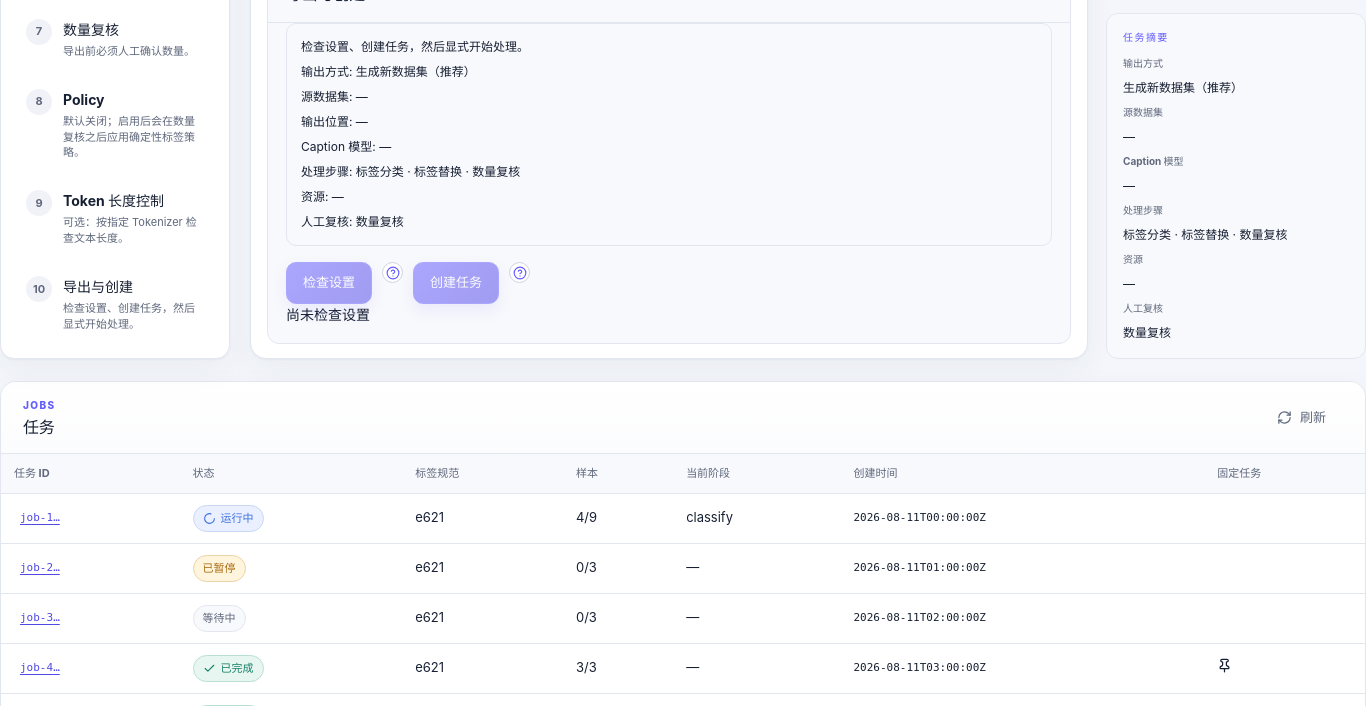
Scenario: DatasetWorkflow count review and job controls › blocks confirmation while any count is still pending
(page scrolled)
Click the button "job-1…": (40,518) [14, 506, 66, 530]
(page scrolled)
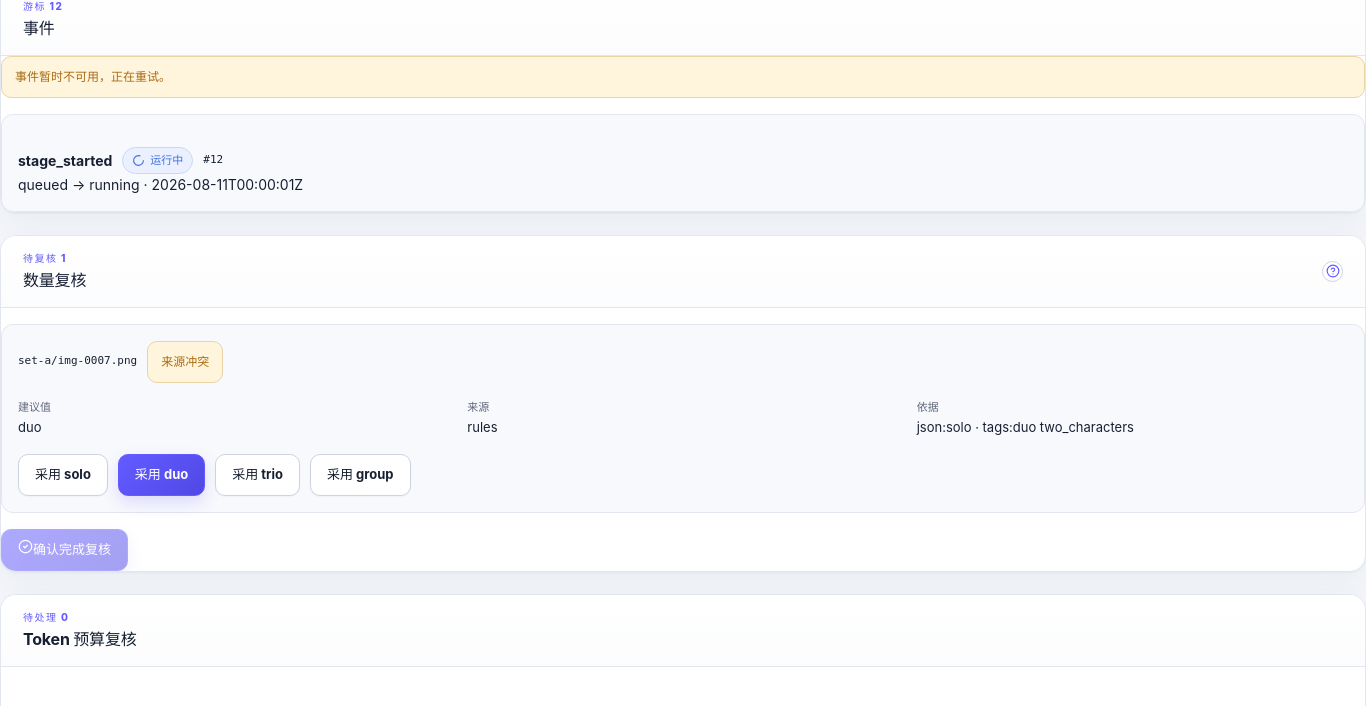
Expected: the button "确认完成复核" is disabled, [1, 529, 128, 571]
Expected: the text "set-a/img-0007.png" is shown, [18, 354, 137, 370]
Expected: the text "来源冲突" is shown, [147, 341, 223, 383]
